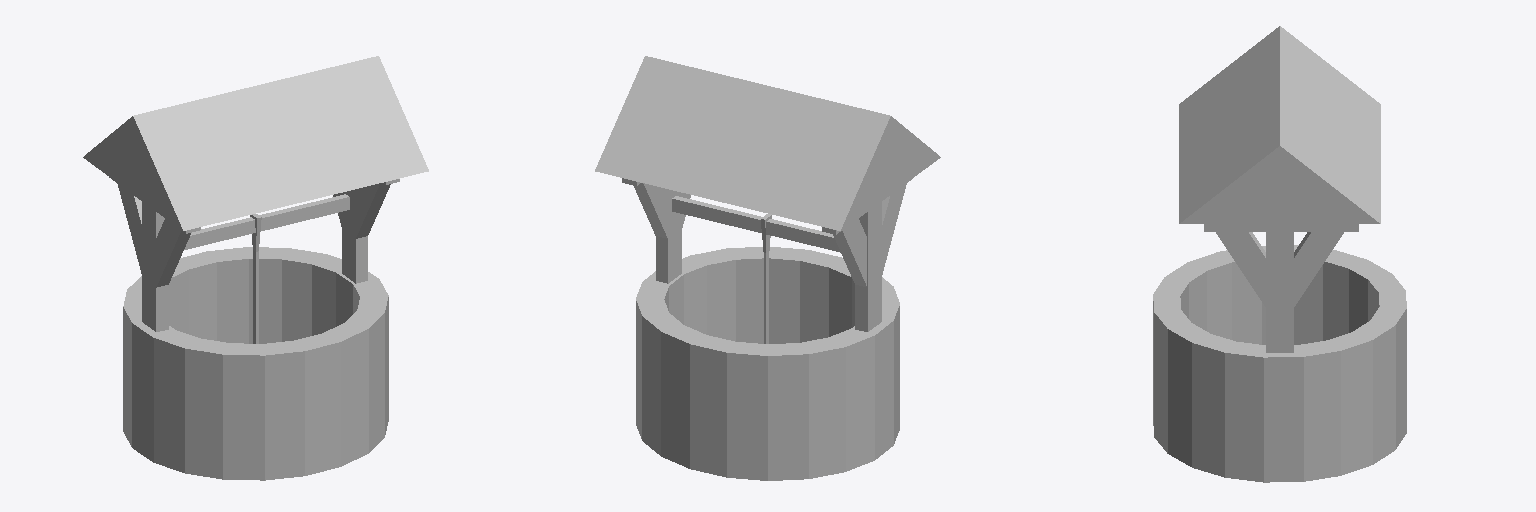
The model's file is well.obj.
3 views of the same model, side by side, from view 1: azimuth 30°, elevation 25°; view 2: azimuth 150°, elevation 25°; view 3: azimuth 270°, elevation 25° (orthographic).
Parts seen in each view (by area): view 1: well, wellwood; view 2: well, wellwood; view 3: well, wellwood.
Boxes of the visible parts, x1,y1,x2,y2 form: well: [83, 56, 428, 480]; wellwood: [109, 177, 399, 343]; well: [595, 56, 940, 480]; wellwood: [622, 178, 911, 343]; well: [1153, 26, 1406, 482]; wellwood: [1204, 224, 1358, 352].
Bounding box in the file's own units: 3.28 × 4.34 × 2.93.